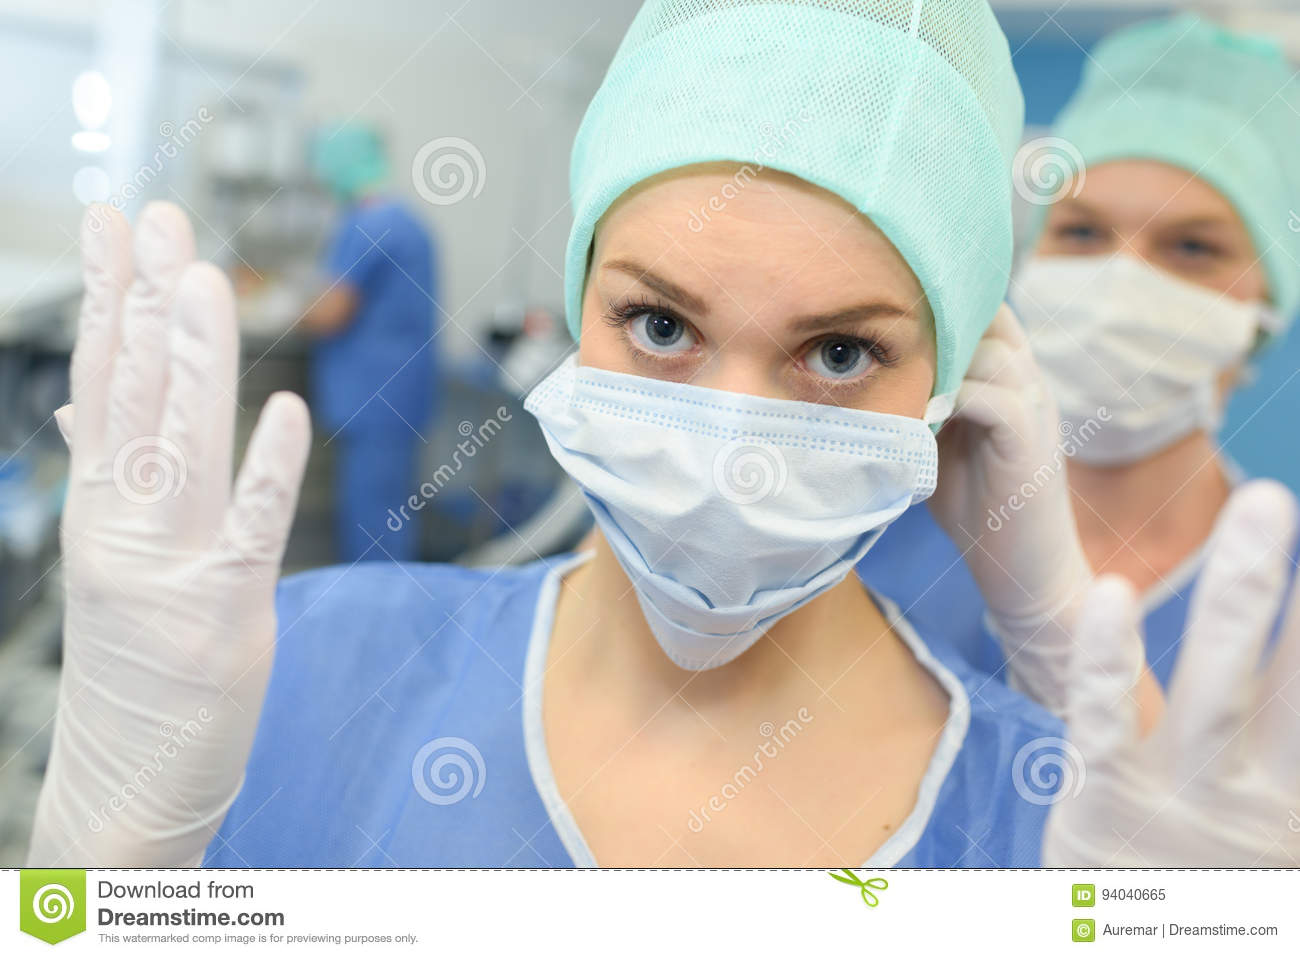mask: (544, 364, 904, 674)
